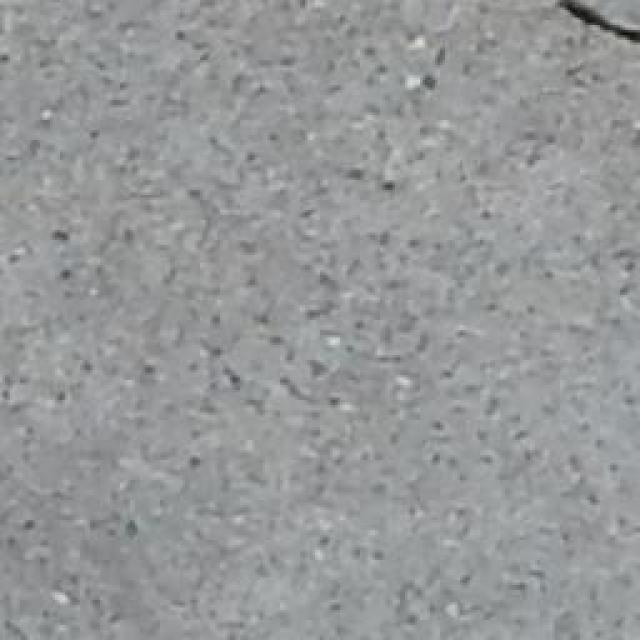concrete-crack: (551, 0, 640, 48)
